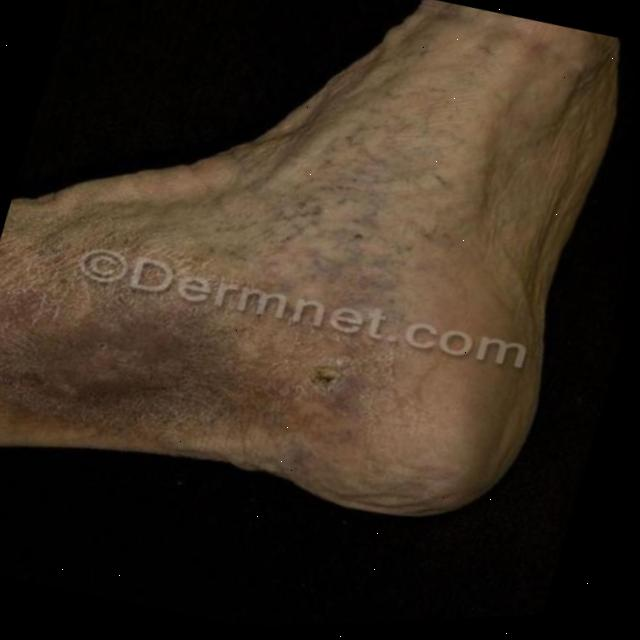Eczema: (0, 132, 423, 519)
